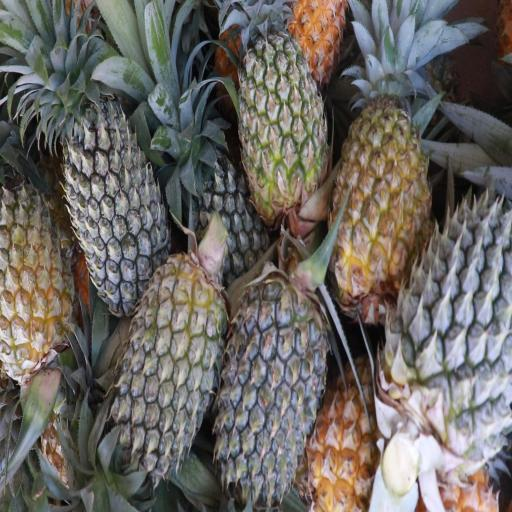------------------------------: (238, 20, 330, 214)
Pineapple - v8 v1: (336, 82, 430, 310), (307, 351, 401, 512), (0, 178, 75, 374)
